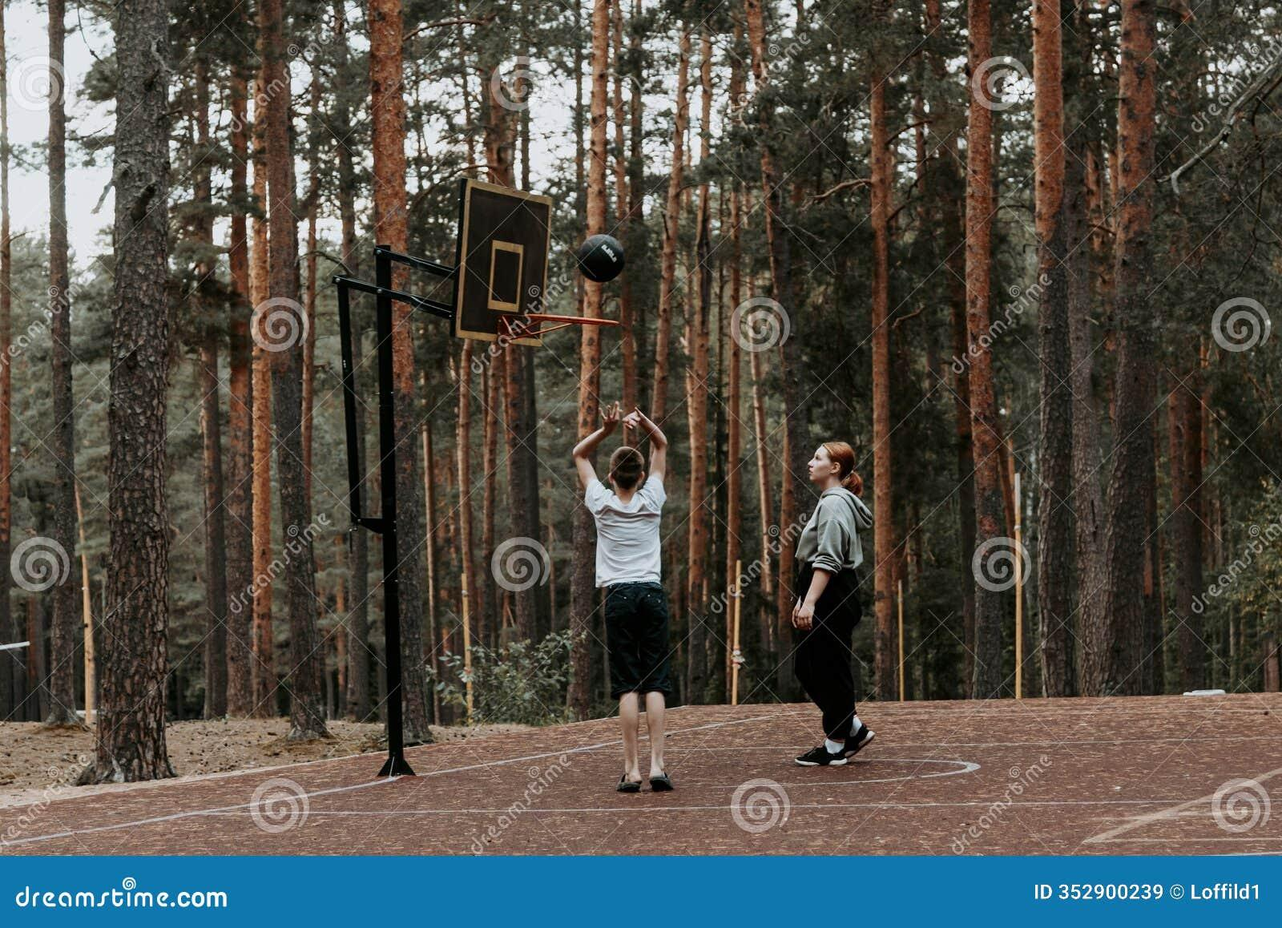basketball: (573, 227, 624, 279)
